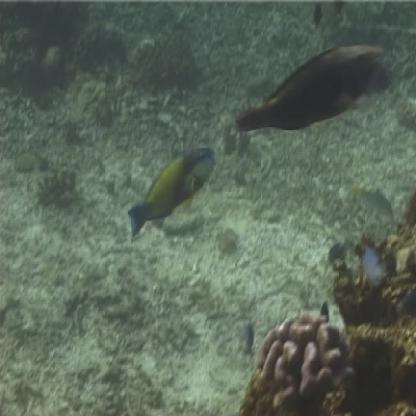Scaridae -Parrotfishes-: (126, 138, 217, 240)
